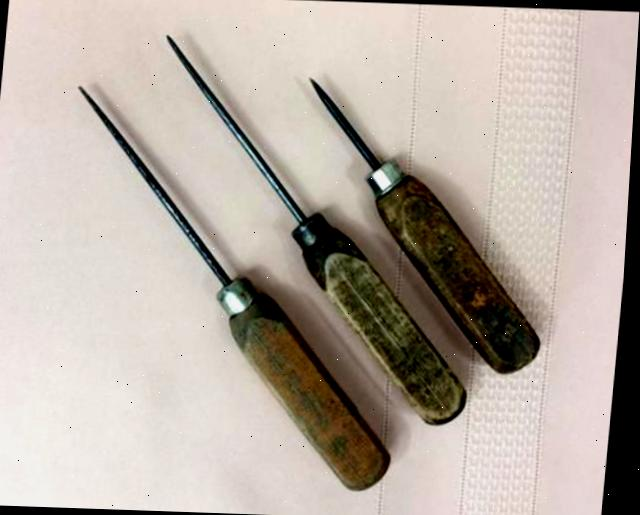ice pick: (45, 81, 428, 494), (136, 36, 501, 426), (284, 74, 565, 376)
